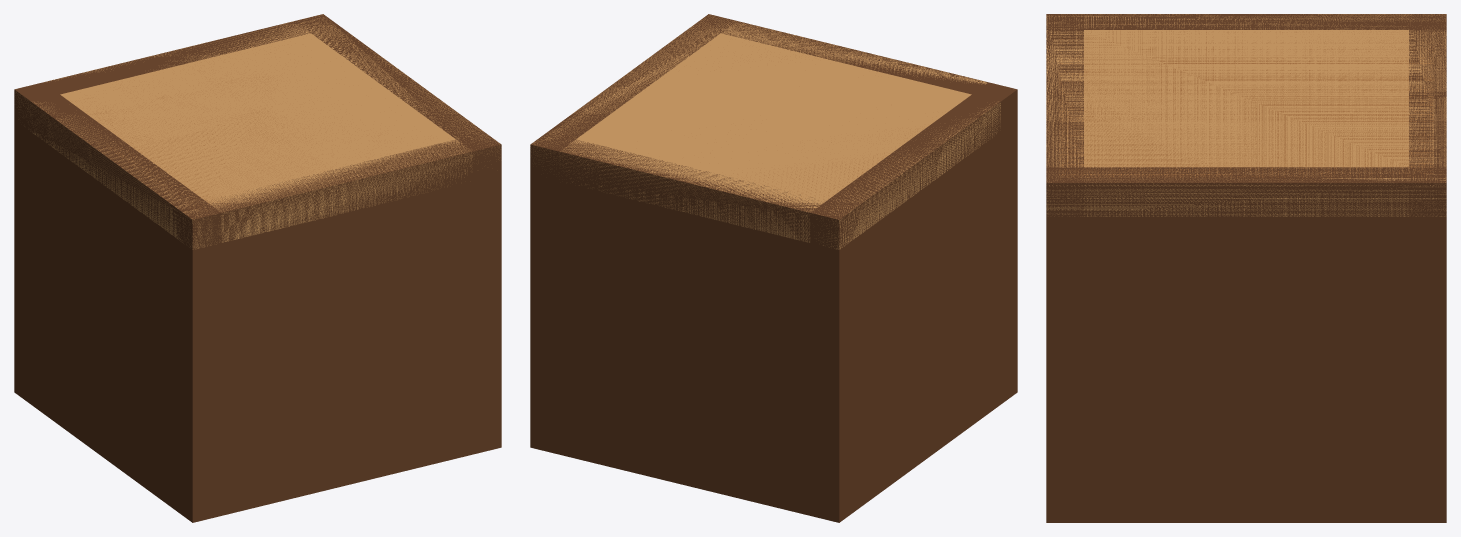
The model's file is crate.obj.
The picture shows the model from 3 angles, left to right: view 1: azimuth 30°, elevation 25°; view 2: azimuth 150°, elevation 25°; view 3: azimuth 270°, elevation 25°; orthographic projection. The views are drawn at different scales.
Visible parts, largest first — view 1: crate_wood_dark, crate_wood_light, crate_wood_mid; view 2: crate_wood_dark, crate_wood_light; view 3: crate_wood_dark, crate_wood_light, crate_wood_mid.
Part boxes in pixels (bbox=[...]): crate_wood_dark: bbox=[14, 14, 501, 522]; crate_wood_light: bbox=[14, 15, 500, 249]; crate_wood_mid: bbox=[75, 52, 401, 210]; crate_wood_dark: bbox=[530, 14, 1017, 522]; crate_wood_light: bbox=[530, 15, 1000, 249]; crate_wood_dark: bbox=[1046, 14, 1446, 522]; crate_wood_light: bbox=[1046, 14, 1446, 216]; crate_wood_mid: bbox=[1059, 19, 1433, 177].
Bounding box in the file's own units: 0.64 × 0.6 × 0.64.
